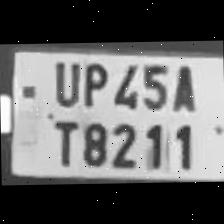1: (166, 116, 197, 170), (136, 116, 166, 169)
2: (106, 114, 137, 169)
4: (107, 56, 140, 110)
5: (136, 58, 169, 110)
8: (76, 115, 106, 166)
A: (167, 58, 198, 114)
P: (78, 57, 107, 108)
T: (45, 113, 80, 167)
U: (47, 55, 78, 107)
